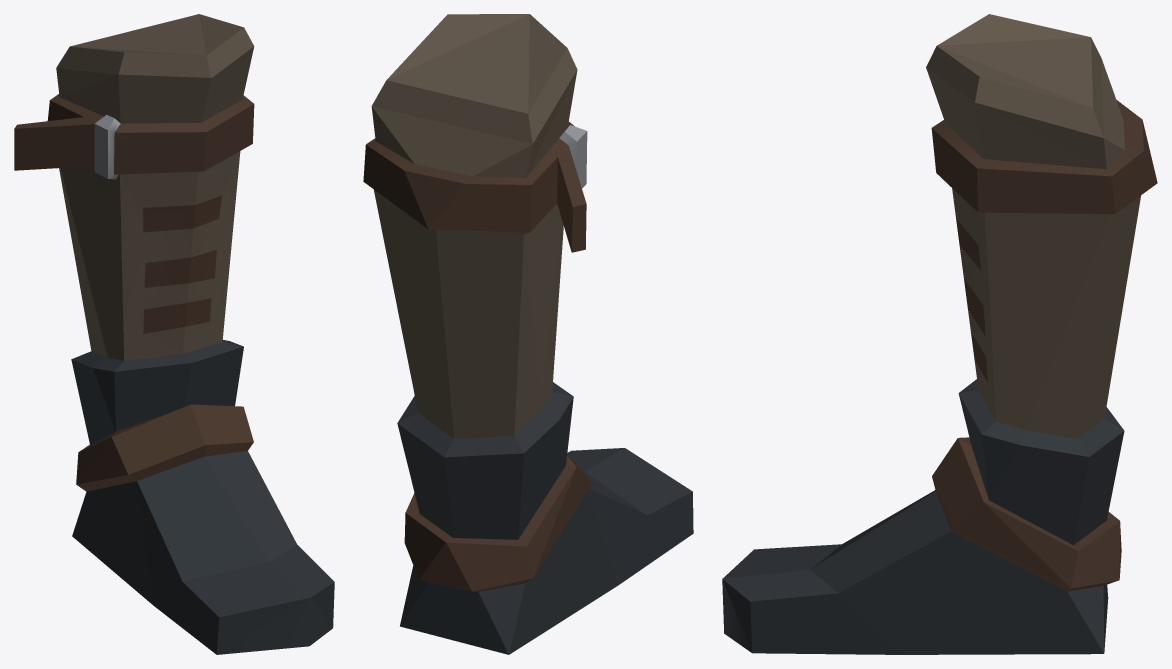
The model's file is Chr_LegLeft_Male_11_Static.fbx.
3 views of the same model, side by side, from view 1: azimuth 30°, elevation 25°; view 2: azimuth 150°, elevation 25°; view 3: azimuth 270°, elevation 25° (orthographic). The views are drawn at different scales.
Parts seen in each view (by area): view 1: Chr_LegLeft_Male_11_Static; view 2: Chr_LegLeft_Male_11_Static; view 3: Chr_LegLeft_Male_11_Static.
Part boxes in pixels (left/top/right/bottom): Chr_LegLeft_Male_11_Static: left=14, top=14, right=334, bottom=654; Chr_LegLeft_Male_11_Static: left=363, top=14, right=693, bottom=654; Chr_LegLeft_Male_11_Static: left=722, top=14, right=1157, bottom=654.
Bounding box in the file's own units: 0.1587 × 0.404 × 0.2732.
